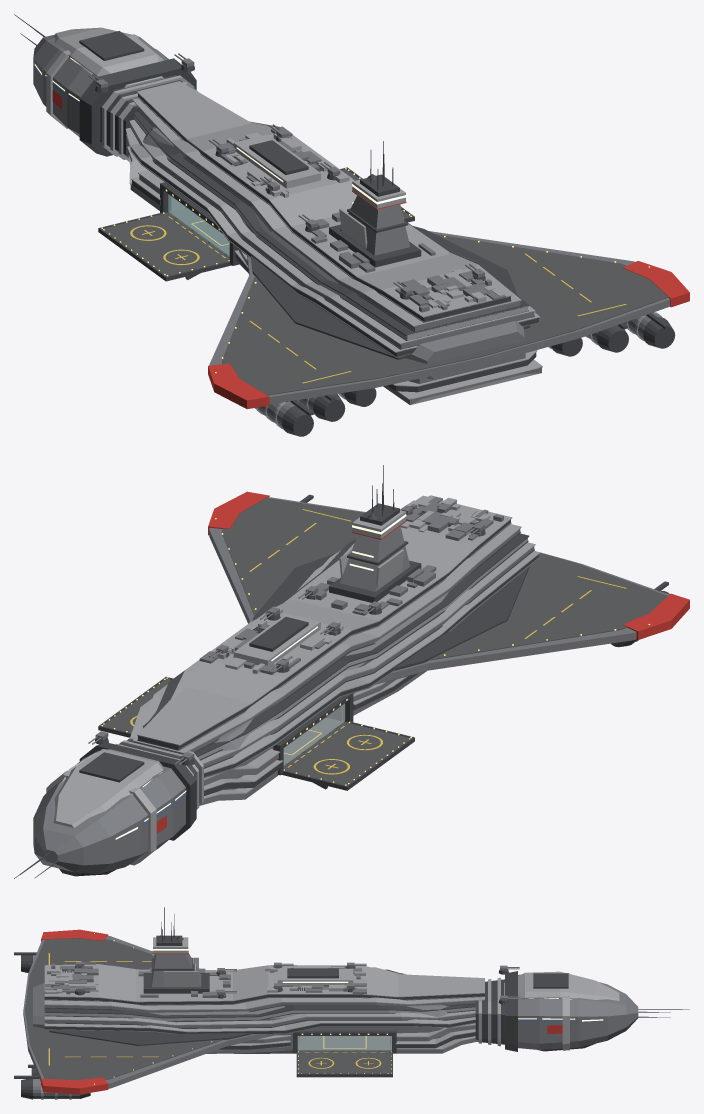
Rendered from Carrier.bf18e1b0fe.glb.
3 renders of one model, top to bottom at view 1: azimuth 30°, elevation 25°; view 2: azimuth 150°, elevation 25°; view 3: azimuth 270°, elevation 25°, orthographic. The views are drawn at different scales.
Parts seen in each view (by area): view 1: Bastion_Spiel; view 2: Bastion_Spiel; view 3: Bastion_Spiel.
Part boxes in pixels (left/top/right/bottom): Bastion_Spiel: left=14, top=14, right=689, bottom=436; Bastion_Spiel: left=14, top=465, right=689, bottom=878; Bastion_Spiel: left=14, top=907, right=689, bottom=1099.
Size of the model in its own units: 319 by 128 by 574.
